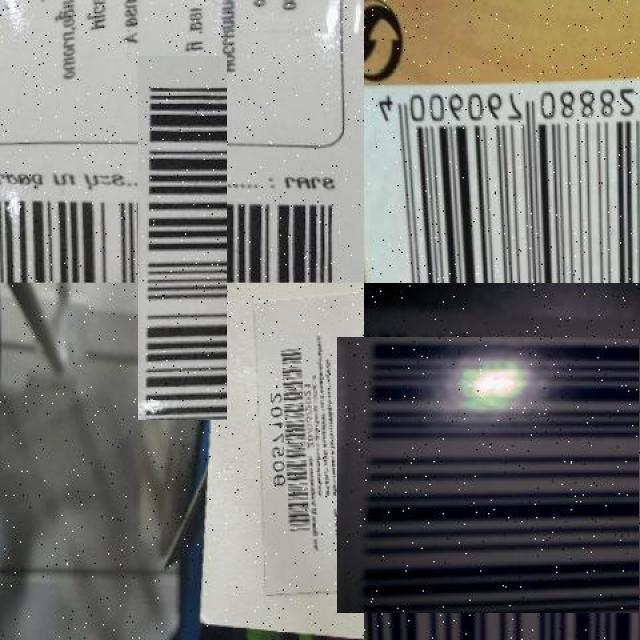Barcode: (350, 323, 640, 627), (364, 70, 640, 282), (68, 125, 296, 351), (267, 333, 317, 558)
